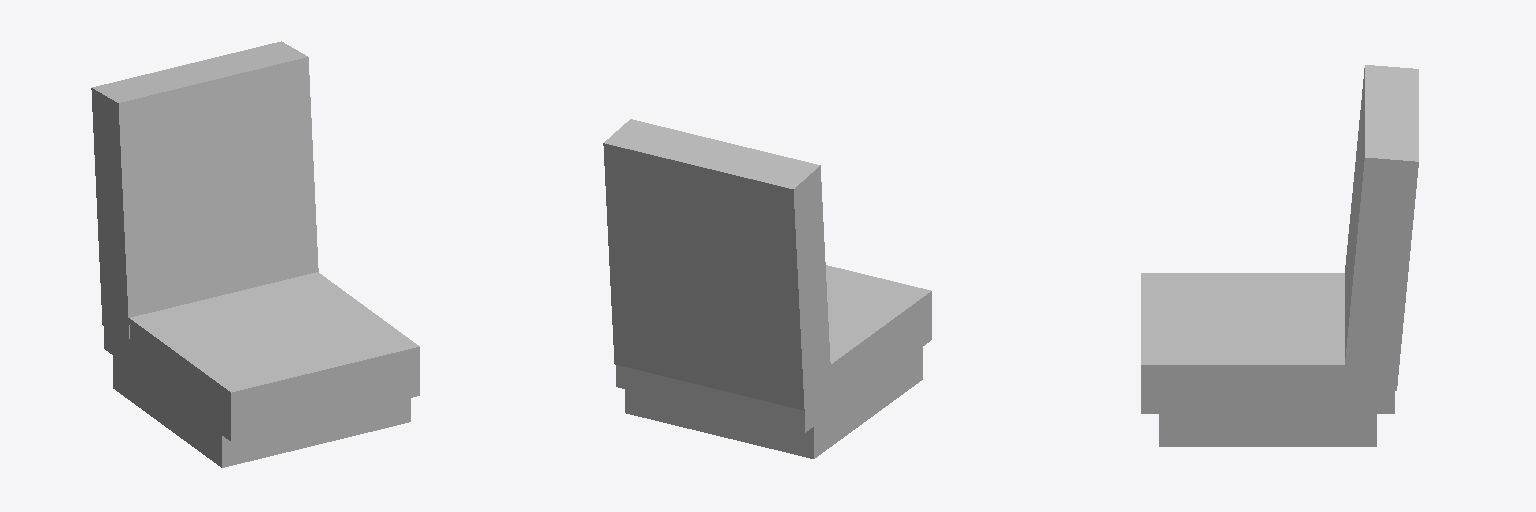
The model's file is carseat.obj.
3 views of the same model, side by side, from view 1: azimuth 30°, elevation 25°; view 2: azimuth 150°, elevation 25°; view 3: azimuth 270°, elevation 25° (orthographic).
Visible parts, largest first — view 1: seet; view 2: seet; view 3: seet.
Part boxes in pixels (bbox=[...]): seet: bbox=[91, 41, 419, 467]; seet: bbox=[603, 119, 931, 458]; seet: bbox=[1141, 65, 1418, 446].
Bounding box in the file's own units: 0.7563 × 1.1 × 0.9582.